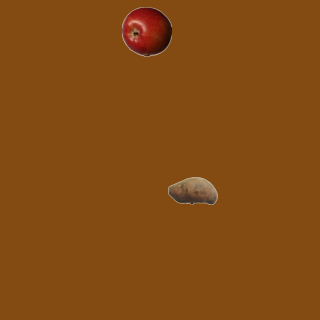Apple Braeburn: (121, 6, 171, 56)
Potato Sweet: (167, 165, 217, 215)
